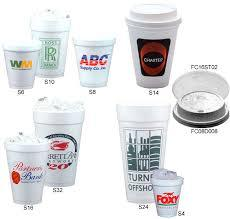Plastic cup: (3, 1, 230, 219)
